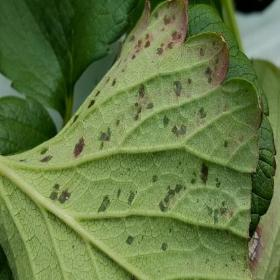Angular Leafspot: (16, 0, 264, 275), (248, 164, 279, 279)
